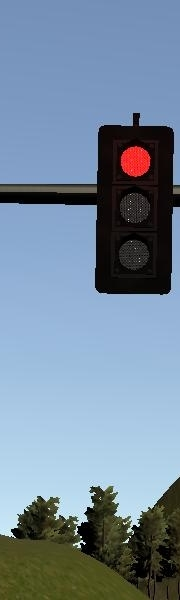Red: (97, 125, 172, 296)
